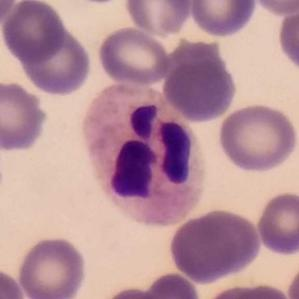Neutrophil: (76, 80, 214, 240)
RBC: (167, 206, 264, 285), (216, 101, 298, 175), (15, 24, 94, 97), (160, 52, 239, 124), (16, 234, 89, 299), (96, 25, 172, 87), (0, 0, 68, 65), (0, 78, 50, 153), (254, 189, 299, 257), (187, 0, 258, 39), (122, 0, 194, 38), (135, 270, 203, 299), (275, 1, 299, 76), (219, 281, 296, 299), (95, 283, 177, 299), (0, 264, 27, 299), (249, 0, 299, 16), (285, 256, 299, 299), (0, 0, 19, 29)
